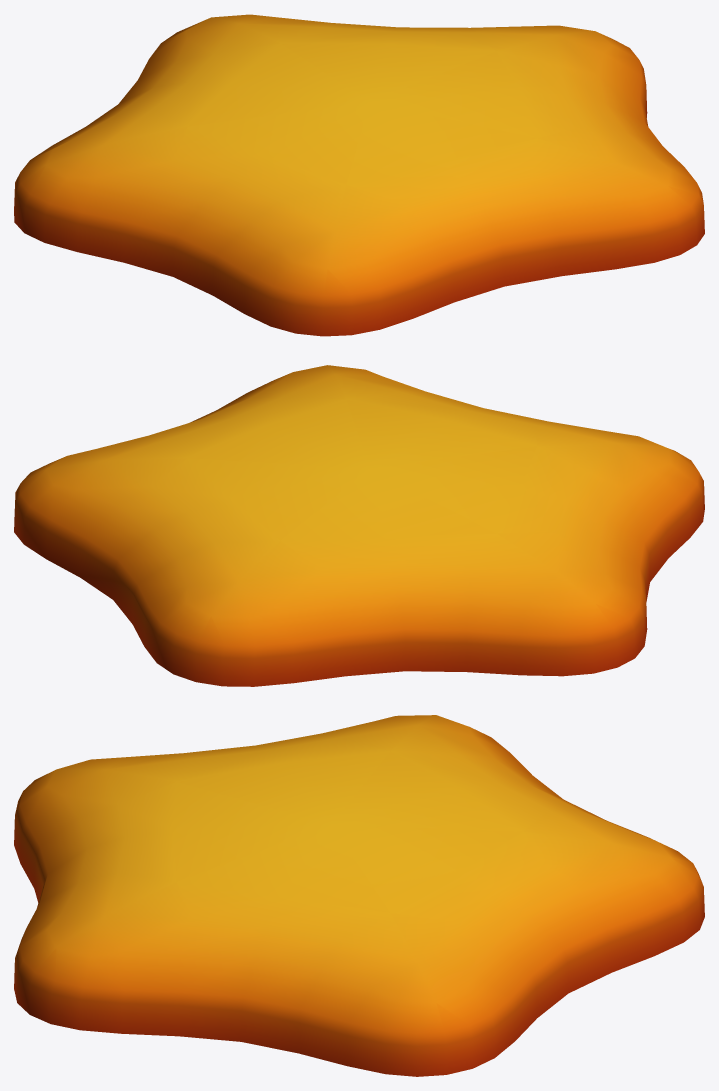
File: obj_SpawnPlatform.fbx
The picture shows the model from 3 angles, top to bottom: view 1: azimuth 30°, elevation 25°; view 2: azimuth 150°, elevation 25°; view 3: azimuth 270°, elevation 25°; orthographic projection. The views are drawn at different scales.
Parts seen in each view (by area): view 1: obj_SpawnPlatform; view 2: obj_SpawnPlatform; view 3: obj_SpawnPlatform.
Part boxes in pixels (x1,y1,x2,y2): obj_SpawnPlatform: (14, 14, 704, 336); obj_SpawnPlatform: (14, 365, 704, 686); obj_SpawnPlatform: (14, 715, 704, 1076).
Size of the model in its own units: 2637 by 355 by 2407.
